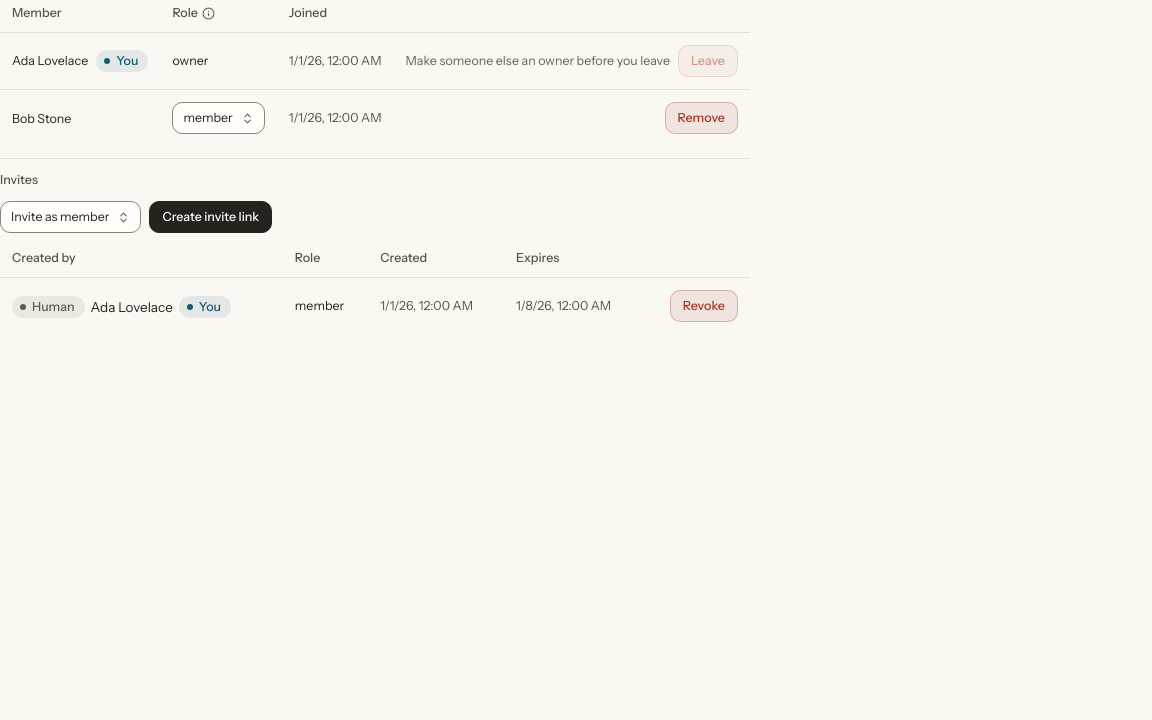
an owner › changes a role after being asked, and reads the list again
This screenshot has width=1152, height=720.
Step 1. Click the button named "Role of Bob Stone" → (219, 118), box [172,102,265,134]
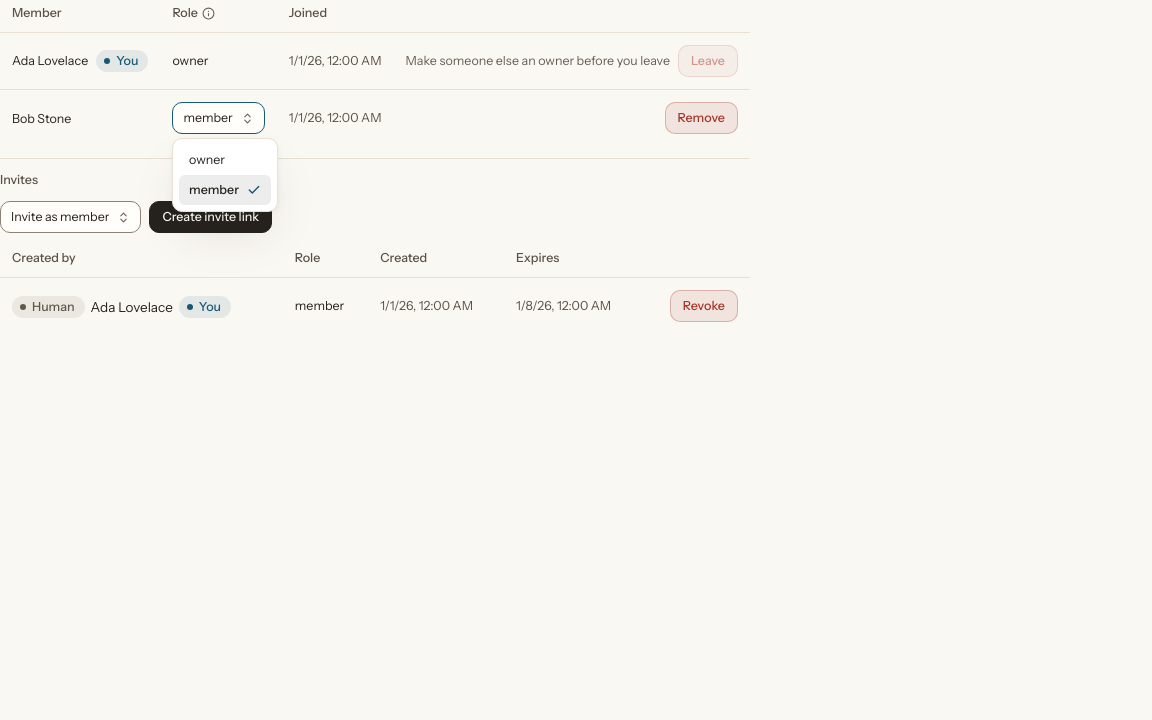
Step 2. Click the option "owner" → (207, 160), box [189,152,225,167]
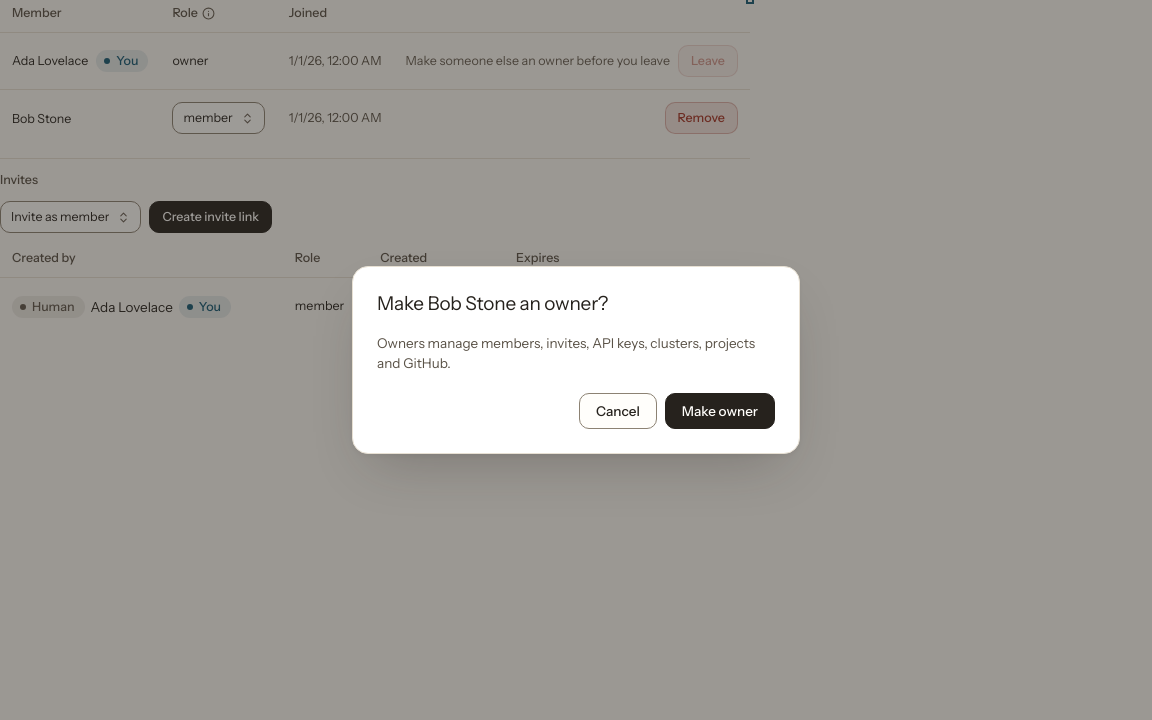
Result: the heading "Make Bob Stone an owner?" is shown at [377,292,608,315]
Step 3. Click the button "Make owner" → (720, 411), box [665,393,775,429]
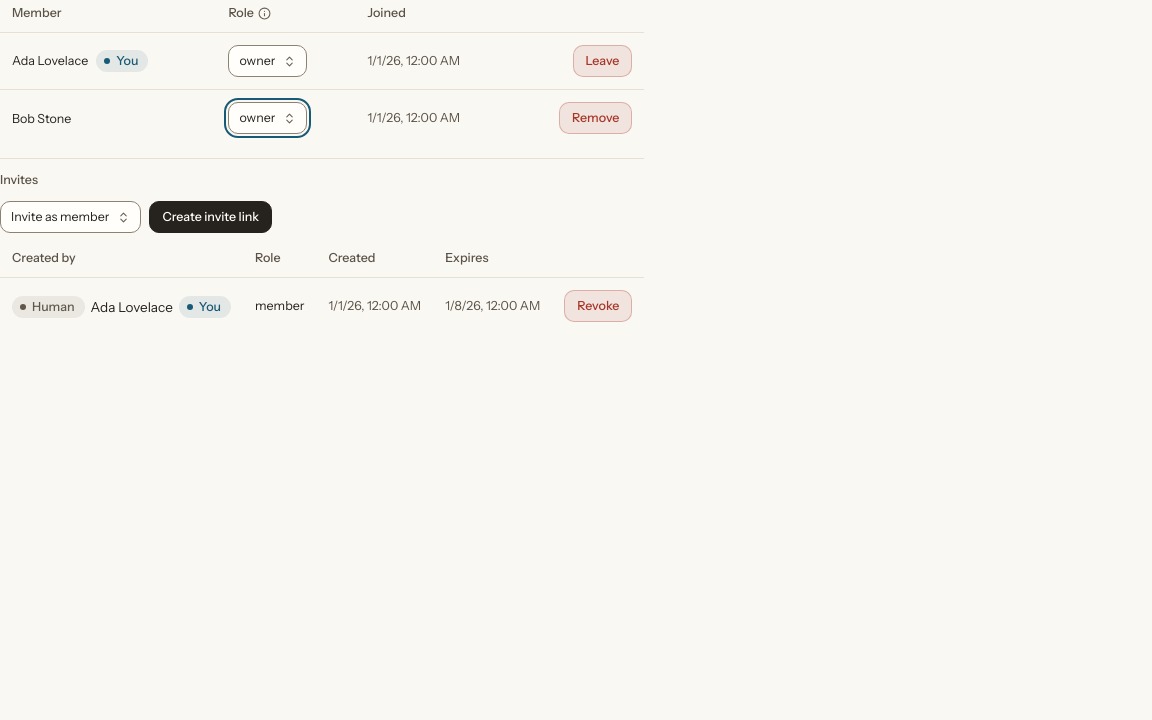
Result: the button named "Role of Bob Stone" reads "owner" at [228,102,307,134]
